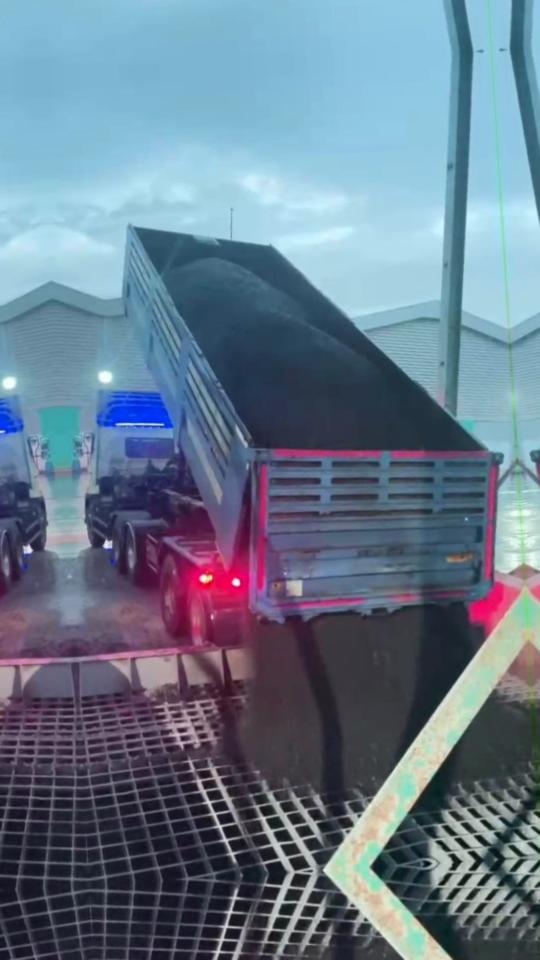gravel: (164, 259, 427, 449), (241, 604, 479, 793), (437, 702, 531, 789)
